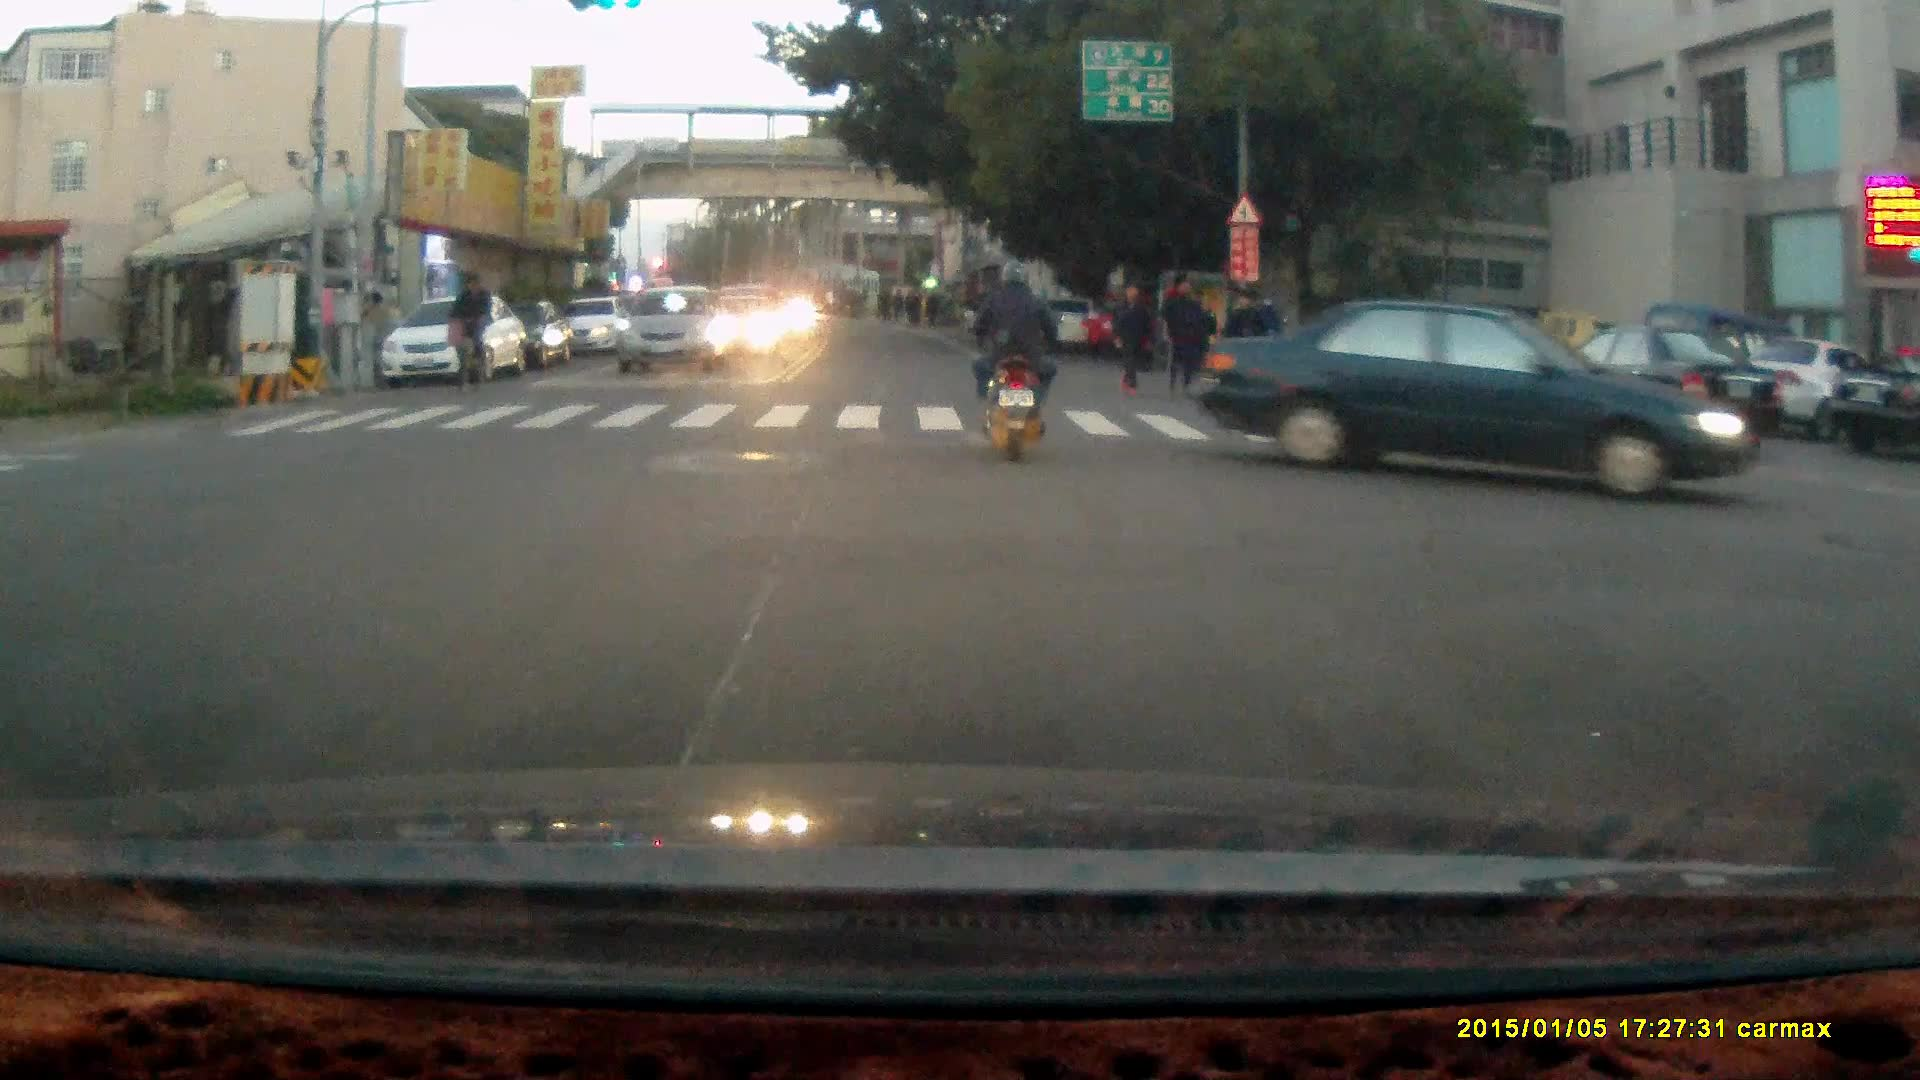pedestrian: (1110, 281, 1151, 399), (1161, 270, 1199, 395), (1223, 287, 1261, 401)
rider: (965, 258, 1060, 464), (445, 269, 490, 392)
vehicle: (1190, 291, 1768, 502), (1720, 337, 1902, 441), (378, 293, 535, 391), (611, 288, 738, 381), (1825, 355, 1920, 463), (1088, 298, 1203, 366)
